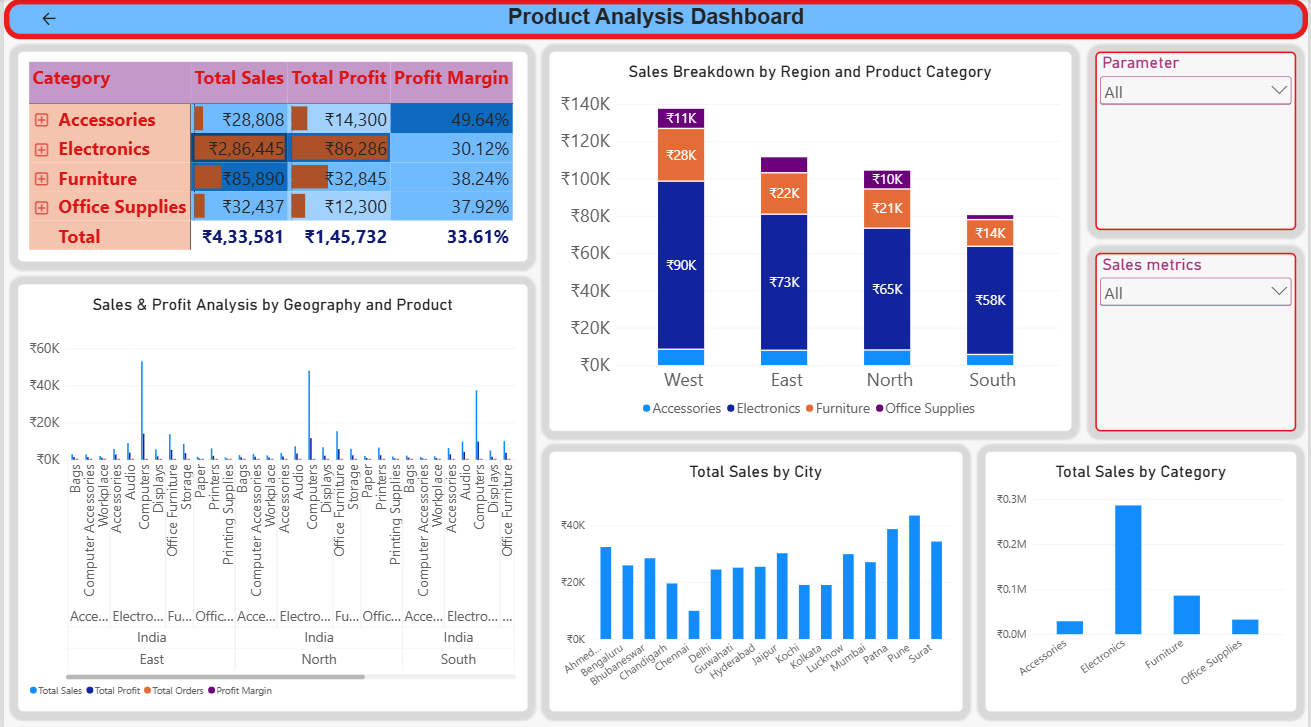

This screenshot's page, from the dashboard's own definition file:
{"tool":"powerbi","page":{"name":"Product Analysis","canvas":[1920,1080],"ordinal":1},"visuals":[{"type":"clusteredColumnChart","fields":{"Category":["ProductsTable.Product Hierarchy.Category","ProductsTable.Product Hierarchy.SubCategory","ProductsTable.Product Hierarchy.ProductName"],"Y":["SalesTable.Total Sales"]},"box":[1444.8,666.3,458.3,382.8],"z":0},{"type":"clusteredColumnChart","fields":{"Category":["CustomersTable.Geography Hierarchy.Region","CustomersTable.Geography Hierarchy.Country","CustomersTable.Geography Hierarchy.City"],"Y":["SalesTable.Total Sales"]},"box":[802.5,666.3,609.2,382.8],"z":1000},{"type":"pivotTable","fields":{"Rows":["ProductsTable.Category","ProductsTable.SubCategory"],"Values":["SalesTable.Total Sales","SalesTable.Total Profit","SalesTable.Profit Margin"]},"box":[20.2,58.9,750.9,314.7],"z":2000},{"type":"slicer","fields":{"Values":["Parameter.Parameter","Parameter.Parameter"]},"box":[1606.8,20.2,296.3,296.3],"z":4000},{"type":"columnChart","title":"Sales Breakdown by Region and Product Category","fields":{"Category":["SalesTable.Region"],"Series":["ProductsTable.Category"],"Y":["SalesTable.Total Sales"]},"box":[802.5,20.2,769.3,616.6],"z":5000},{"type":"slicer","fields":{"Values":["Sales metrics.Sales metrics"]},"box":[1606.8,342.3,296.3,294.5],"z":6000},{"type":"clusteredColumnChart","title":"Sales & Profit Analysis by Geography and Product","fields":{"Category":["SalesTable.Region","SalesTable.Country","ProductsTable.Category","ProductsTable.SubCategory"],"Y":["SalesTable.Total Sales","SalesTable.Total Profit","SalesTable.Total Orders","SalesTable.Profit Margin"]},"box":[20.2,408.6,750.9,640.5],"z":7000},{"type":"actionButton","box":[0,0,147.2,58.9],"z":7001}]}

Visuals, with their boxes in screenshot pixels (x1, y1, x2, y2), scaled from the page's 1920x1080 canvas onto the 1311x727 screenshot:
clusteredColumnChart - ProductsTable.Product Hierarchy.Category x ProductsTable.Product Hierarchy.SubCategory: <region>987, 449, 1299, 706</region>
clusteredColumnChart - CustomersTable.Geography Hierarchy.Region x CustomersTable.Geography Hierarchy.Country: <region>548, 449, 964, 706</region>
pivotTable - ProductsTable.Category x ProductsTable.SubCategory: <region>14, 40, 527, 251</region>
slicer - Parameter.Parameter x Parameter.Parameter: <region>1097, 14, 1299, 213</region>
"Sales Breakdown by Region and Product Category" columnChart: <region>548, 14, 1073, 429</region>
slicer - Sales metrics.Sales metrics: <region>1097, 230, 1299, 429</region>
"Sales & Profit Analysis by Geography and Product" clusteredColumnChart: <region>14, 275, 527, 706</region>
actionButton: <region>0, 0, 101, 40</region>
